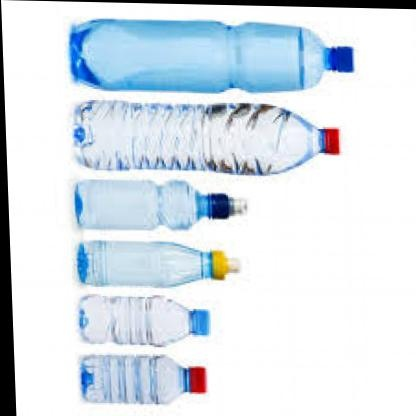trash: (73, 100, 324, 174), (70, 19, 323, 91), (75, 180, 246, 228), (77, 240, 239, 286), (79, 295, 209, 345), (81, 355, 206, 403)
